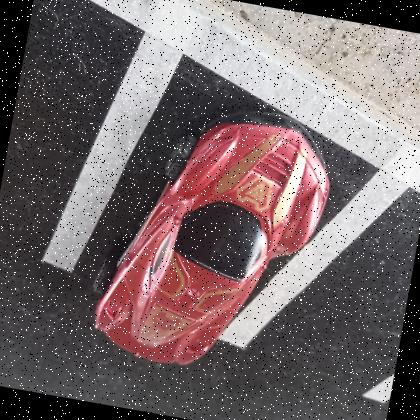Car: (94, 112, 330, 365)
